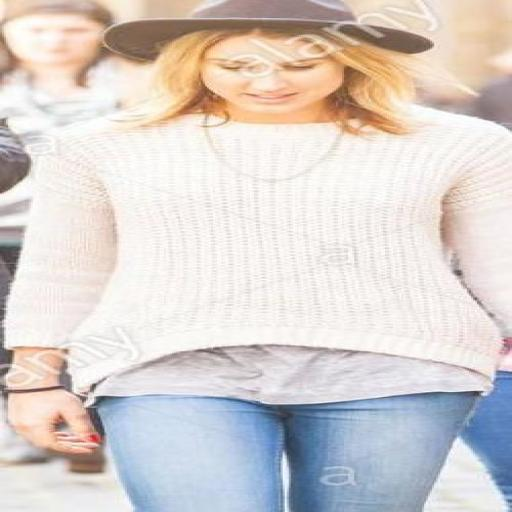person: (7, 0, 511, 511), (0, 0, 139, 154), (461, 326, 511, 511)
